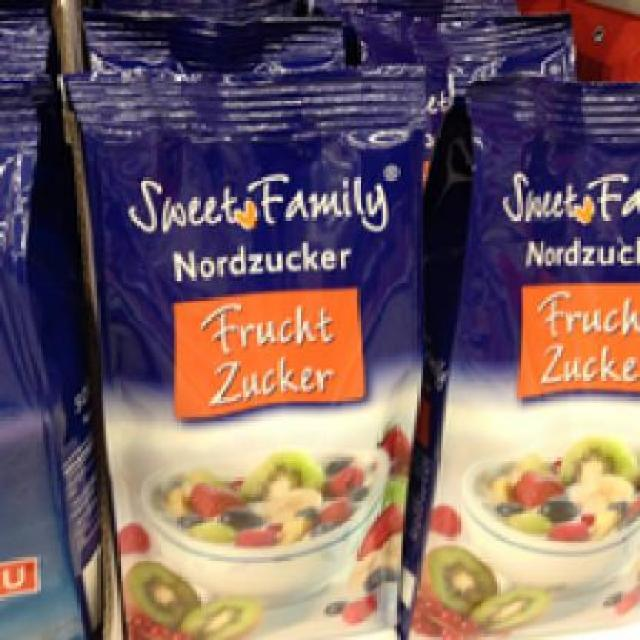Sugar: (57, 60, 432, 637), (402, 74, 638, 632)
